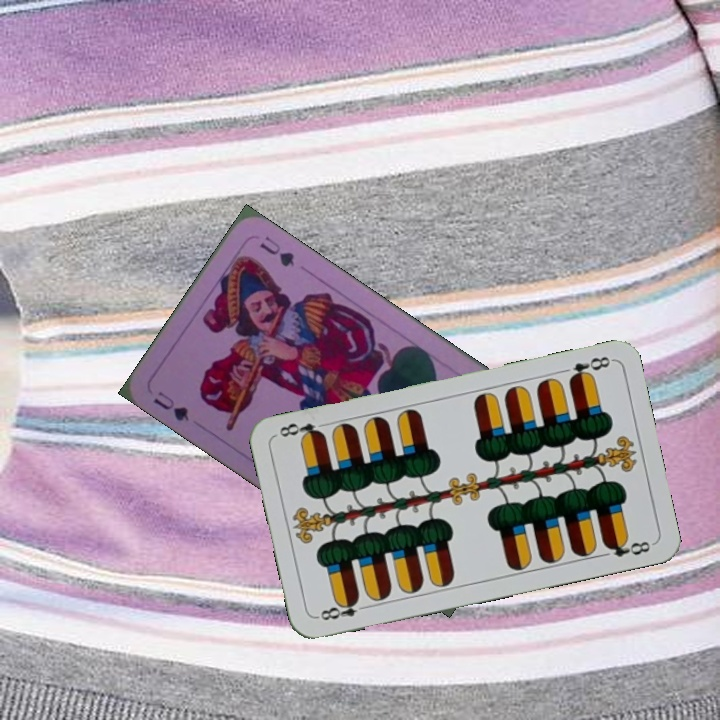E8: (313, 594, 372, 623), (564, 352, 614, 385)
GU: (149, 387, 192, 425)
